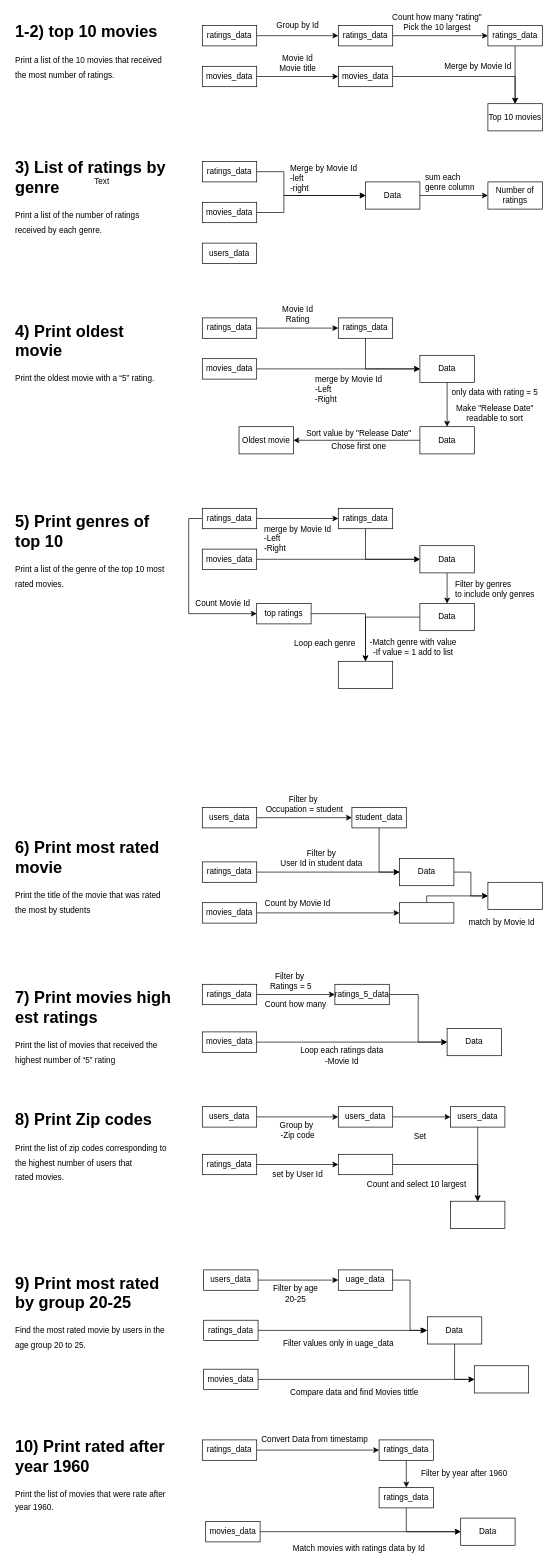
Some shapes in this 554 by 1567 pixel diagram are drawn without their labels. Each missing label, with the centre of its shape:
"Most rated movie" goes at (x=514, y=896).
"Most rated movies" goes at (x=501, y=1379).
"Top 10 by genres" goes at (x=365, y=674).
"top_movie" goes at (x=426, y=912).
"User data" goes at (x=365, y=1164).
"Zip code data" goes at (x=477, y=1214).
